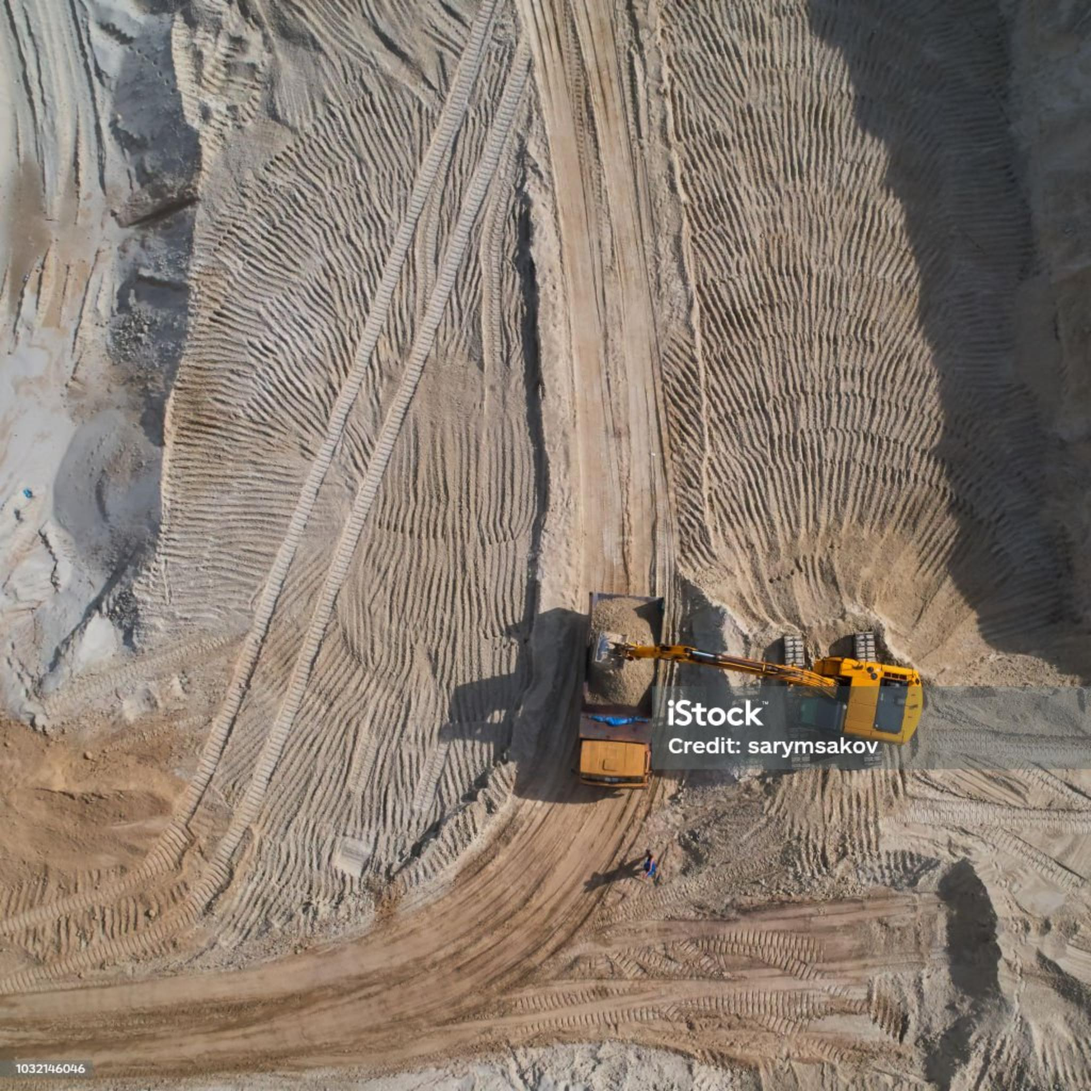benches: (0, 705, 655, 1077), (517, 0, 675, 604)
excavator: (694, 620, 923, 767)
truck: (576, 575, 661, 805)
